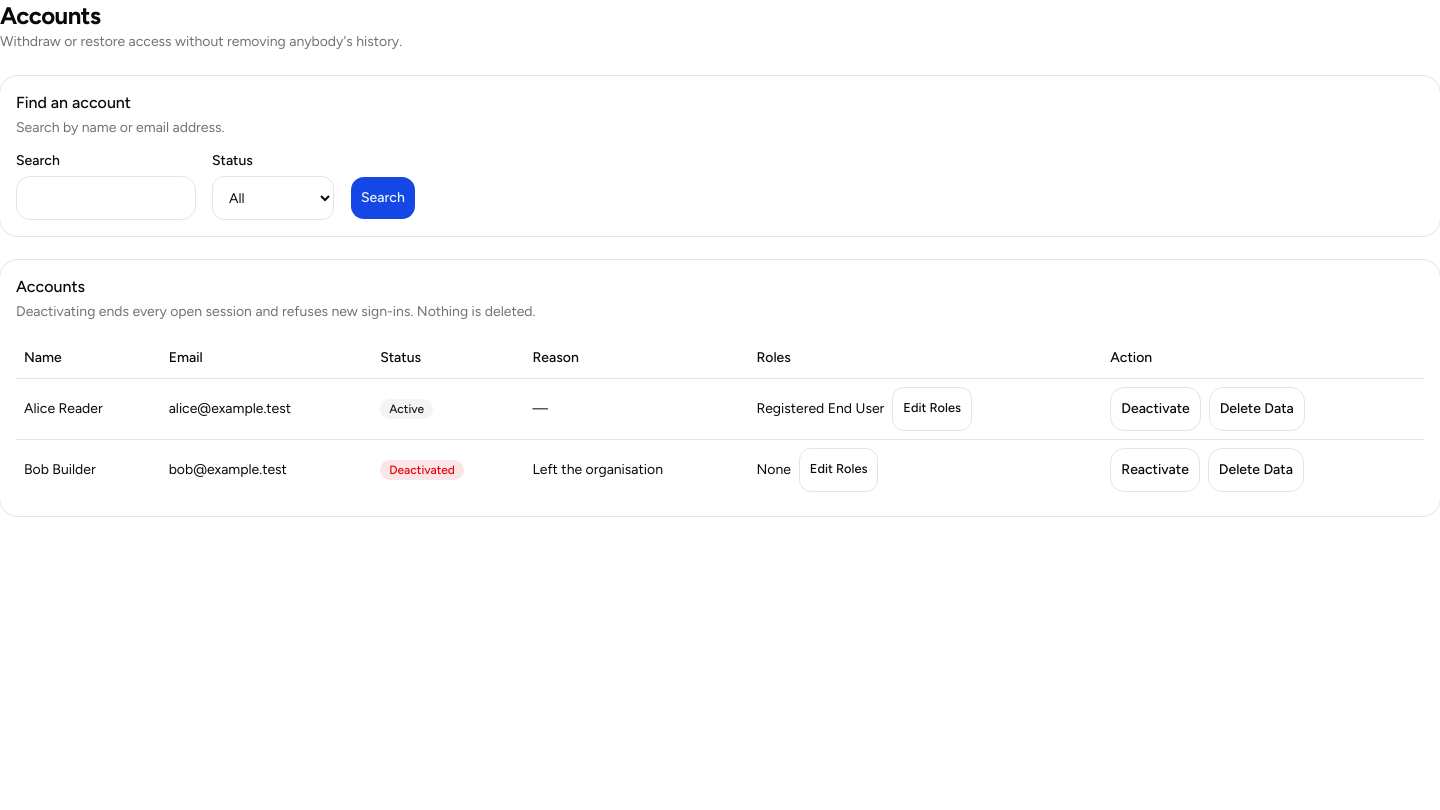
Test: AccountManagementView › reports exactly what the deletion did
The width and height of the screenshot is (1440, 810).
Click the button "Delete Data" in the row of "Alice Reader". click: (1257, 408)
box: top-left (1209, 386), bottom-right (1305, 430)
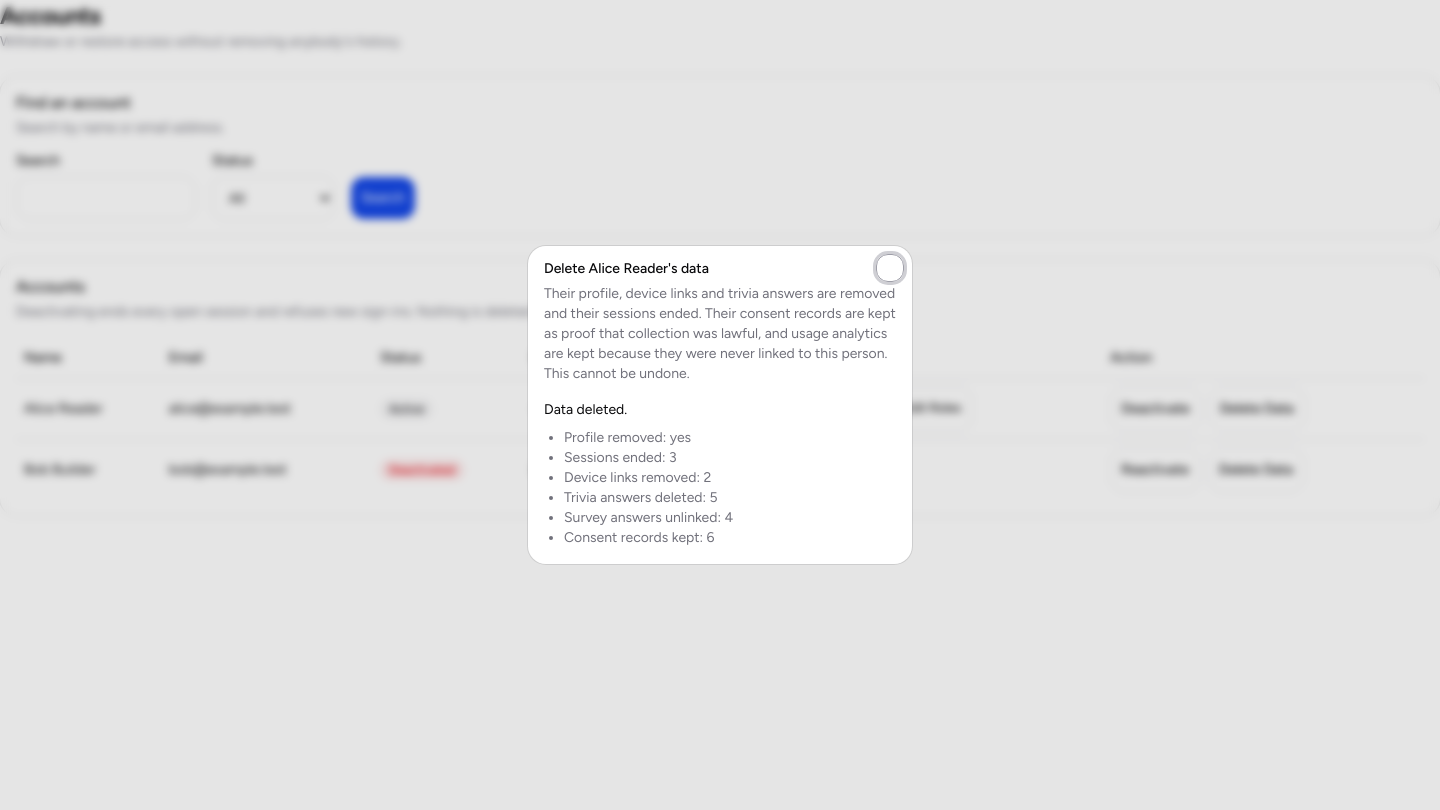
Expected: the list item "Sessions ended: 3" is shown, top-left (564, 449), bottom-right (677, 466)
Expected: the list item "Consent records kept: 6" is shown, top-left (564, 529), bottom-right (714, 546)
